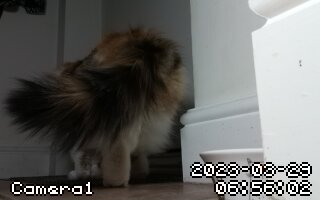clara: (17, 27, 192, 190)
